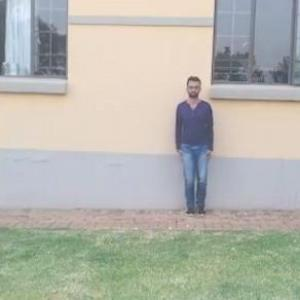follow: (174, 74, 216, 216)
